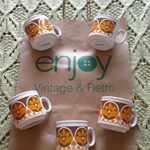cups: (5, 88, 53, 133), (95, 93, 140, 134), (19, 13, 65, 52), (85, 14, 129, 51), (54, 116, 97, 150)
